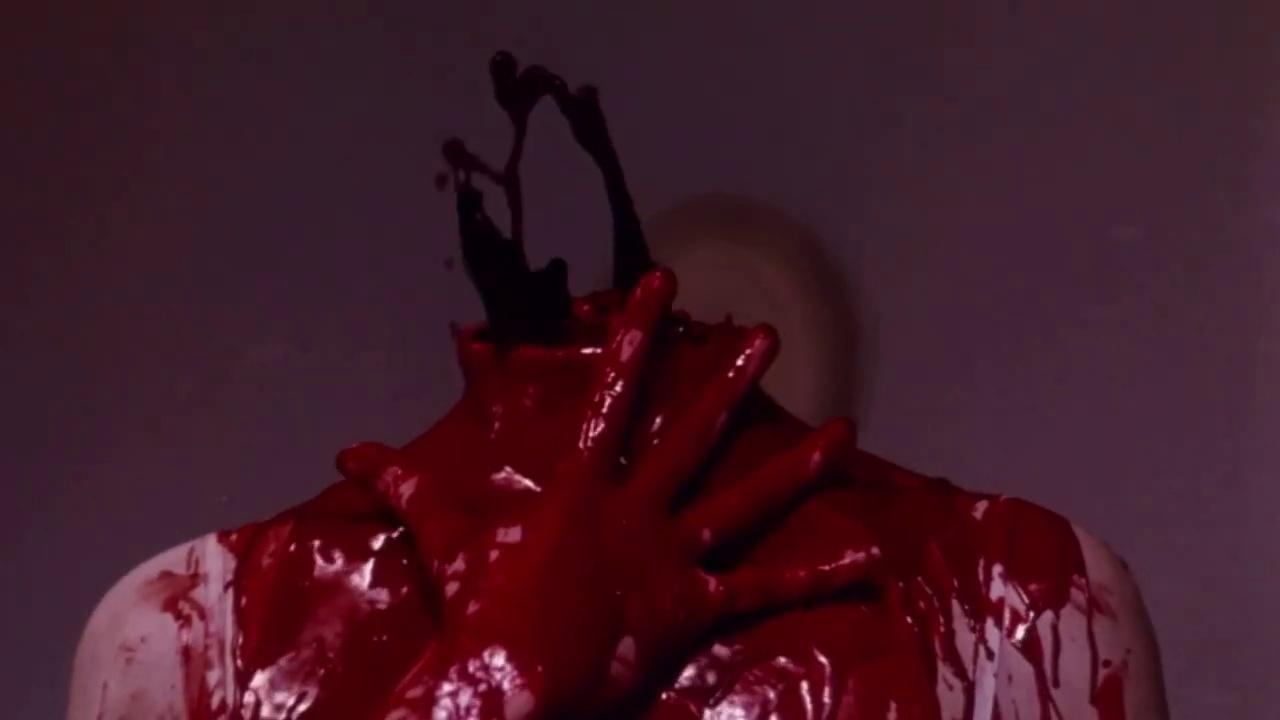Fire: (68, 50, 1169, 720)
